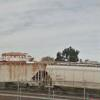Tree: (46, 39, 94, 64)
